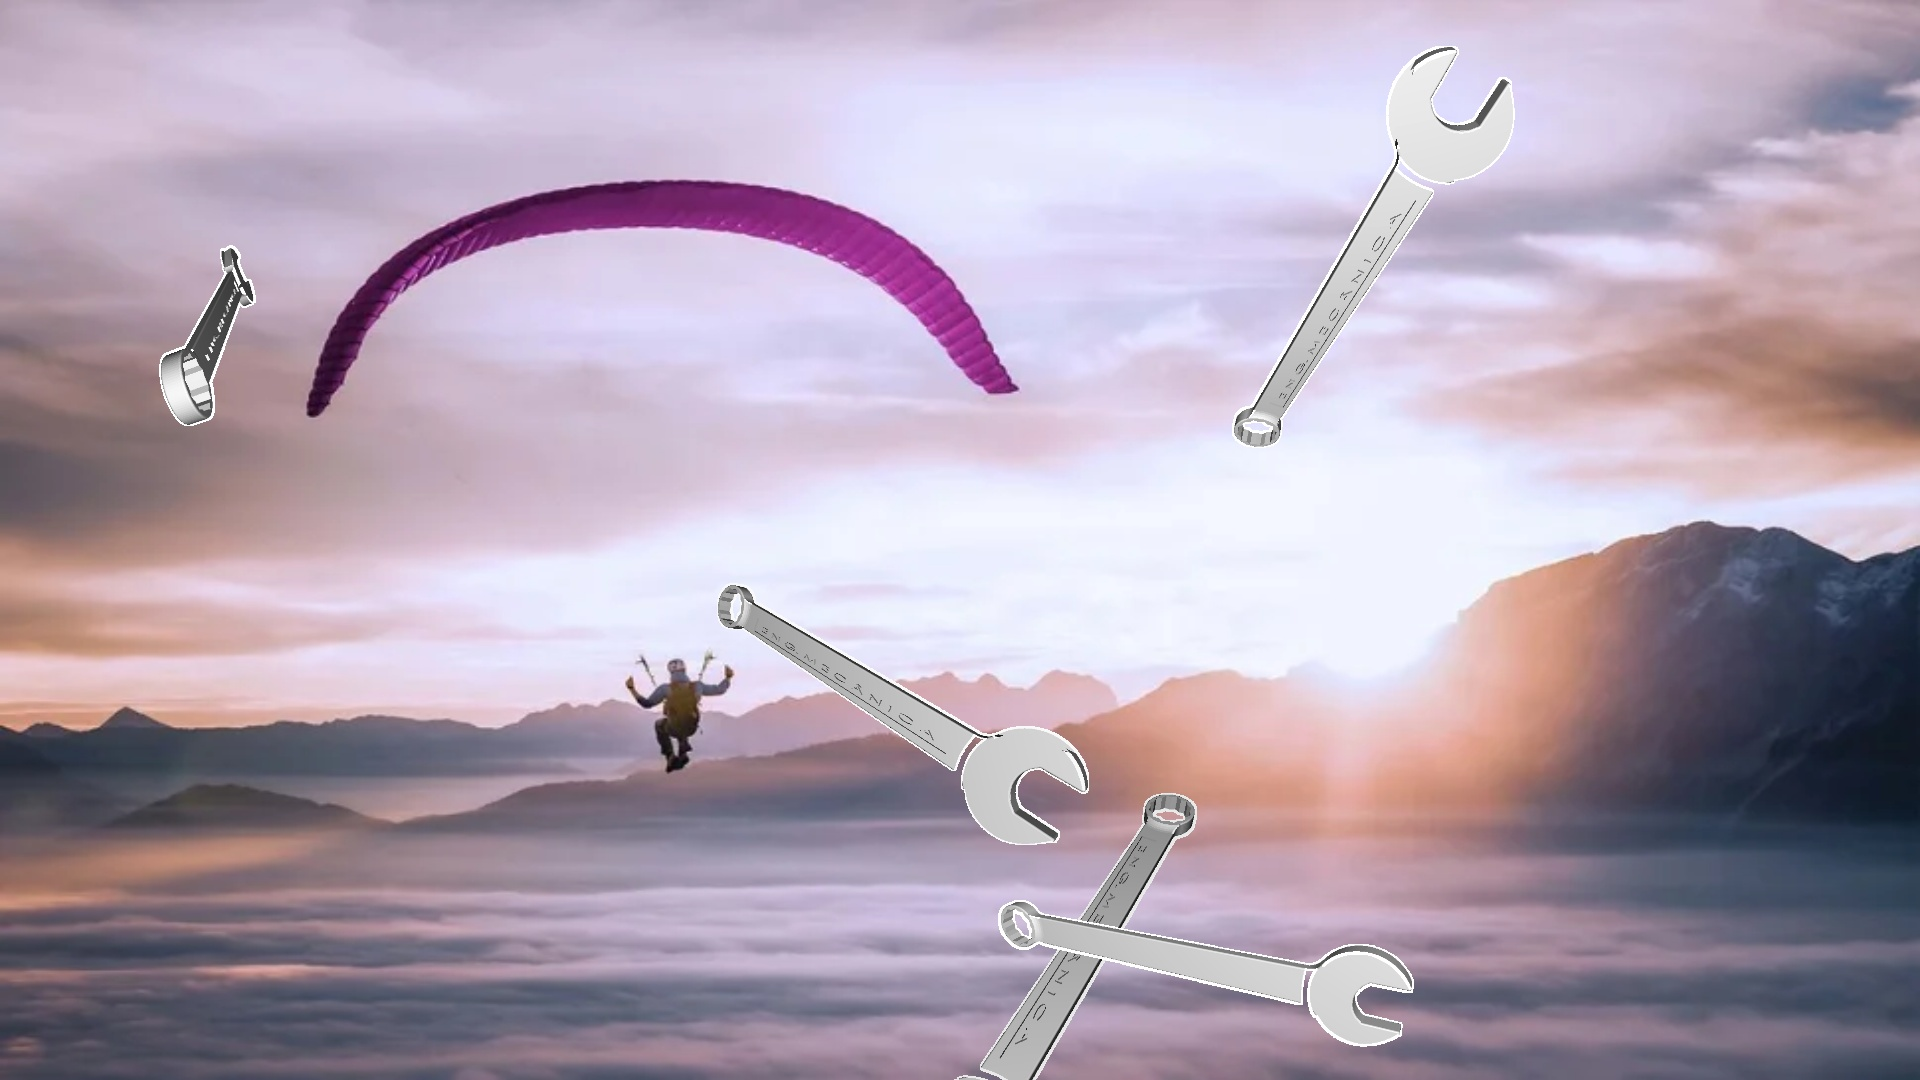Mixed Key: (1232, 46, 1514, 447), (717, 583, 1088, 844), (953, 793, 1196, 1079), (998, 901, 1414, 1046), (160, 245, 255, 425)
